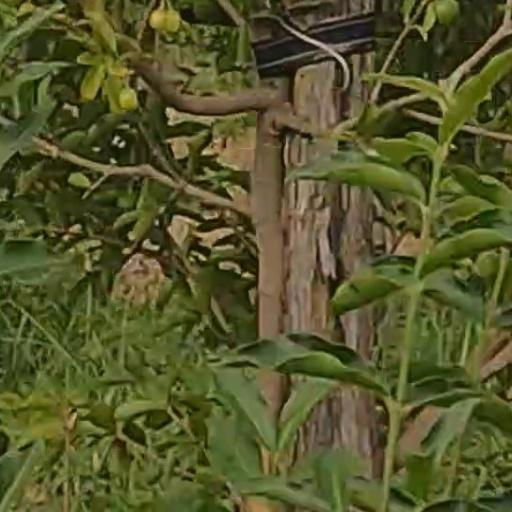acerola: (150, 11, 182, 34), (120, 88, 140, 111)
